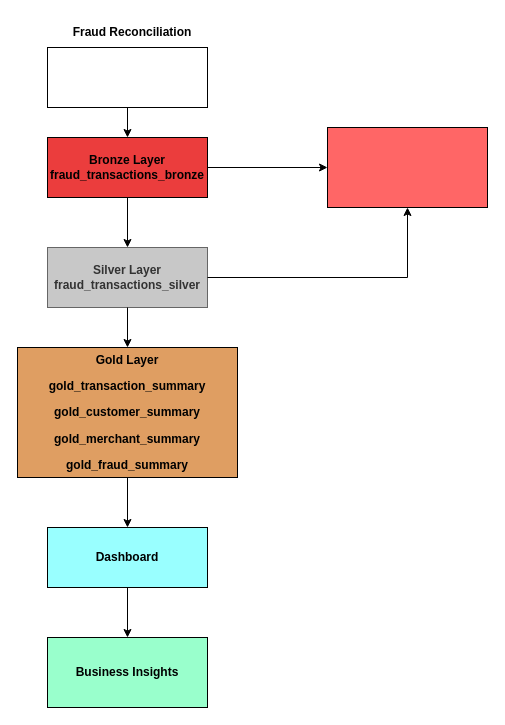
Image size: 505x725. Some labels were removed from this diagram. Each missing label, with the centre of its shape:
"FraudTrain.csv" belongs at (127,77).
"Reconciliation Engine" belongs at (407,167).
